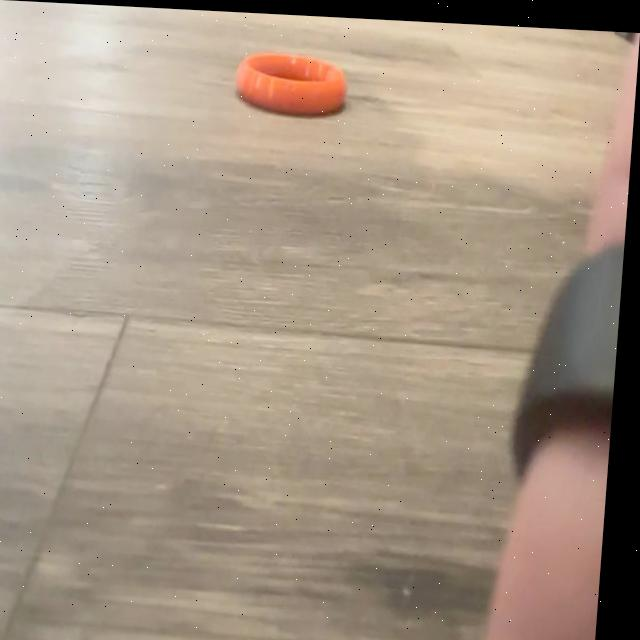note: (236, 41, 350, 112)
